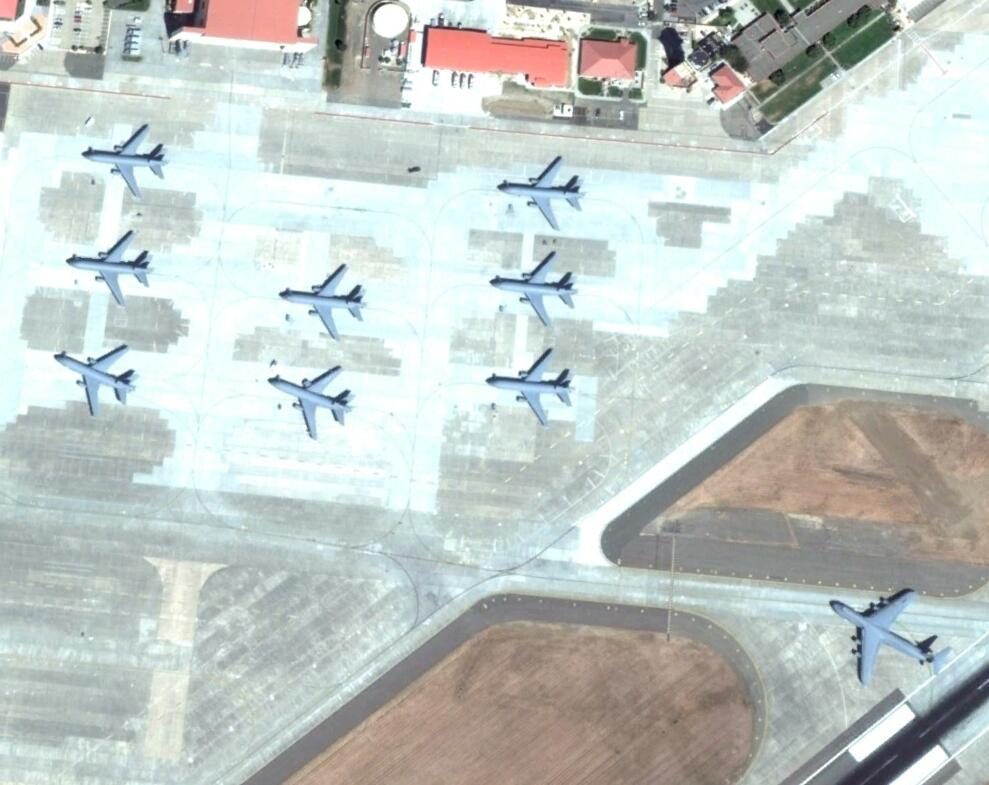A18: (278, 261, 368, 343), (489, 250, 579, 326), (485, 350, 577, 424), (68, 227, 154, 306), (266, 362, 353, 440), (51, 340, 139, 417), (83, 121, 166, 198), (498, 158, 586, 229)
A4: (830, 587, 951, 686)
